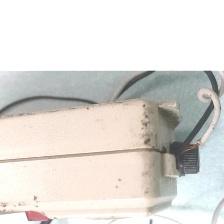three_eye_plug: (0, 89, 209, 224)
